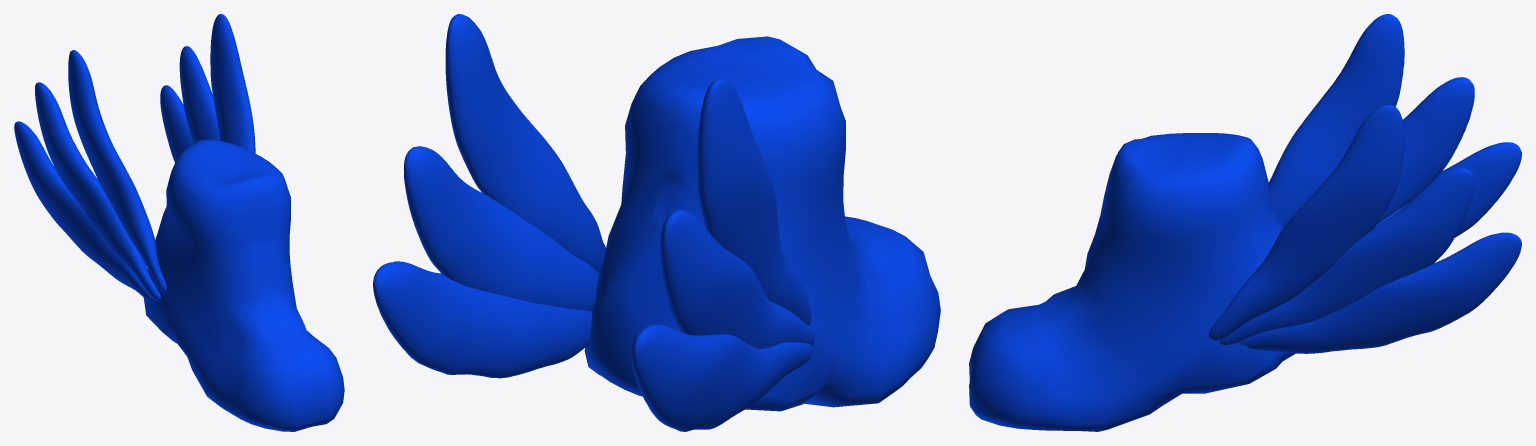
File: BootsAndWings_low.fbx
3 views of the same model, side by side, from view 1: azimuth 30°, elevation 25°; view 2: azimuth 150°, elevation 25°; view 3: azimuth 270°, elevation 25° (orthographic). The views are drawn at different scales.
Parts seen in each view (by area): view 1: Boots_low, Wing1_low, Wing2_low, Wing3_low; view 2: Boots_low, Wing1_low, Wing3_low, Wing2_low; view 3: Boots_low, Wing1_low, Wing2_low, Wing3_low.
Boxes of the visible parts, x1,y1,x2,y2 form: Boots_low: (143, 139, 344, 431); Wing1_low: (68, 14, 255, 293); Wing2_low: (35, 46, 219, 300); Wing3_low: (14, 85, 193, 303); Boots_low: (584, 36, 940, 411); Wing1_low: (445, 14, 811, 325); Wing3_low: (373, 261, 812, 431); Wing2_low: (403, 146, 814, 348); Boots_low: (969, 133, 1295, 431); Wing1_low: (1208, 14, 1404, 340); Wing2_low: (1219, 77, 1474, 344); Wing3_low: (1238, 142, 1521, 353).
Size of the model in its own units: 5.28 by 8.31 by 11.95.
